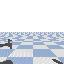drone: (0, 39, 12, 50)
